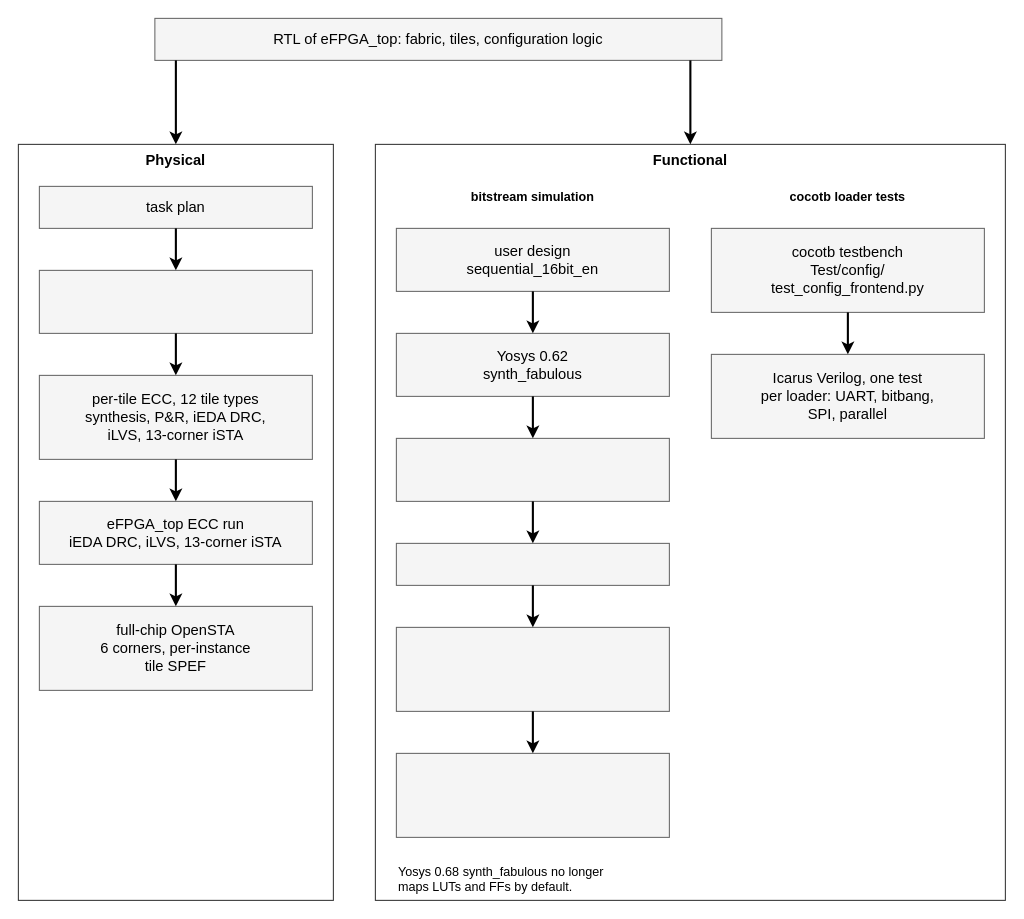
Image size: 1024x919. Some labels were removed from this diagram. Here are the shapes that lost their labels. From the top down, the centre of each, then its label:
At pixel 175 301: "task check 31,760 seam links meet".
At pixel 532 469: "nextpnr-generic --uarch fabulous".
At pixel 532 563: "FABulous bit_gen".
At pixel 532 668: "Icarus Verilog simulation of eFPGA_top RTL, SPI loader".
At pixel 532 794: "compare all 10 IO bits with the reference design: pass, 100 cycles".
